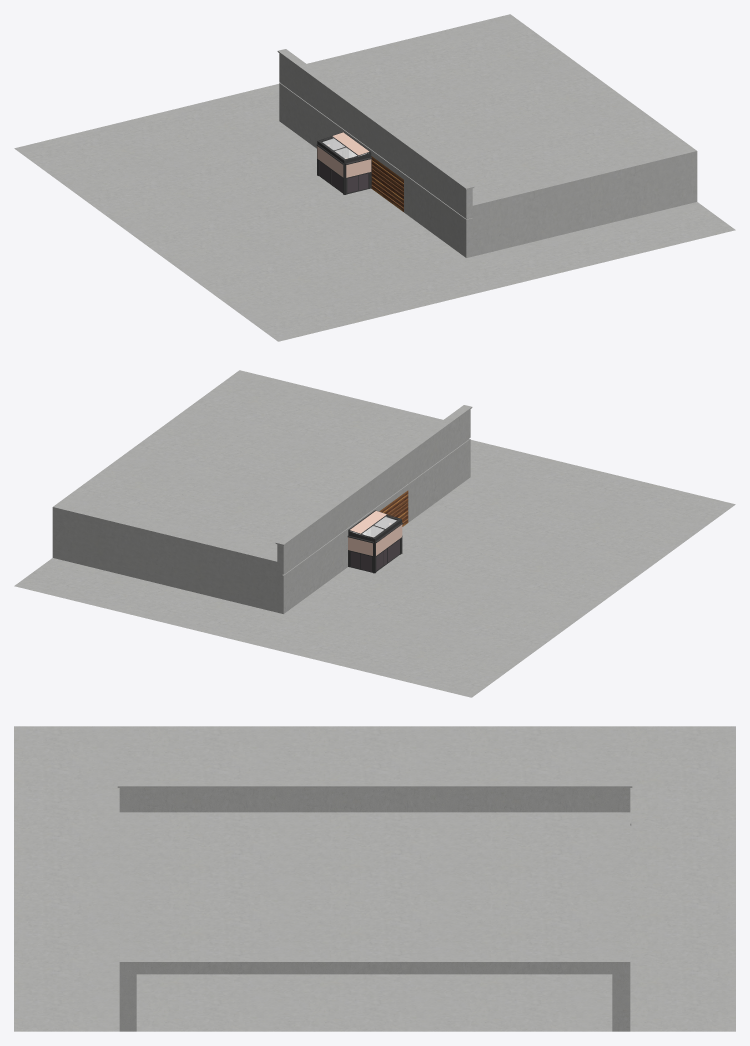
File: canopy_configuration_incre.glb
3 renders of one model, top to bottom at view 1: azimuth 30°, elevation 25°; view 2: azimuth 150°, elevation 25°; view 3: azimuth 270°, elevation 25°, orthographic. The views are drawn at different scales.
Visible parts, largest first — view 1: Building; view 2: Building; view 3: Building.
Boxes of the visible parts, x1,y1,x2,y2 form: Building: (14,14,735,341); Building: (14,370,735,697); Building: (14,726,735,1031).
Size of the model in its own units: 23.43 by 6.08 by 23.43.
16 materials, 2 textured.
